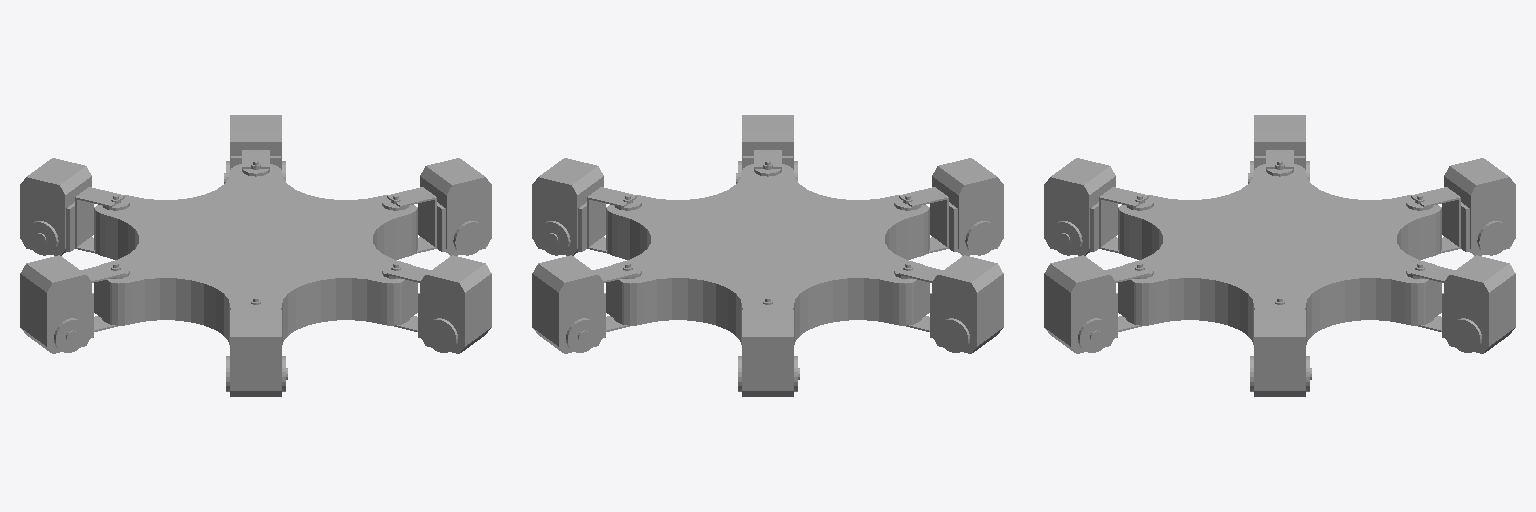
The robot description file, URDF, robot "hexapod_simplified":
<?xml version='1.0' encoding='utf-8'?>
<robot name="hexapod_simplified">

  <!-- COLOURS -->
  <material name="body">
    <color rgba="0.7 0.7 0.7 1" />
  </material>
  <material name="coxa">
    <color rgba="0.7 0.7 0.7 1" />
  </material>
  <material name="femur">
    <color rgba="0.7 0.7 0.7 1" />
  </material>
  <material name="tibia">
    <color rgba="0.7 0.7 0.7 1" />
  </material>

  <!-- BASE LINK -->
  <link name="base_link">
    <inertial>
      <origin rpy="0 0 0" xyz="0 0 -6.800E-4" />
      <mass value="1.320" />
      <inertia ixx="5.25450858E-3" ixy="0" ixz="-1.0E-11" iyy="5.25450858E-3" iyz="-1.3E-10" izz="1.014754381E-2" />
    </inertial>
    <visual>
      <origin rpy="0 0 0" xyz="0 0 0" />
      <geometry>
        <mesh filename="package://urdf/meshes/simplified/base_mesh.STL" />
      </geometry>
      <material name="body" />
    </visual>
    <collision>
      <origin rpy="0 0 0" xyz="0 0 0" />
      <geometry>
        <mesh filename="package://urdf/meshes/simplified/base_mesh.STL" />
      </geometry>
    </collision>
  </link>

  <link name="link_1_1">
    <inertial>
      <origin rpy="0 0 0" xyz="4.992E-2 -1.400E-4 1.457E-2" />
      <mass value="0.14645" />
      <inertia ixx="6.022825E-5" ixy="-6.480E-8" ixz="9.3057E-7" iyy="6.045029E-5" iyz="-3.6292E-7" izz="4.572503E-5" />
    </inertial>
    <visual>
      <origin rpy="0 0 0" xyz="0 0 0" />
      <geometry>
        <mesh filename="package://urdf/meshes/simplified/coxa_mesh.STL" />
      </geometry>
      <material name="coxa" />
    </visual>
    <collision>
      <origin rpy="0 0 0" xyz="0 0 0" />
      <geometry>
        <mesh filename="package://urdf/meshes/simplified/coxa_mesh.STL" />
      </geometry>
    </collision>
  </link>

  <joint name="joint_1_1" type="revolute">
    <origin rpy="0 0 0" xyz="0.12529 0 -0.014" />
    <parent link="base_link" />
    <child link="link_1_1" />
    <axis xyz="0 0 1" />
    <limit effort="3.464" lower="-1.745" upper="1.745" velocity="7.686" />
  </joint>

  <link name="link_1_2">
    <inertial>
      <origin rpy="0 0 0" xyz="5.478E-2 -3.960E-3 0" />
      <mass value="0.05752" />
      <inertia ixx="3.892883E-5" ixy="1.70637E-6" ixz="0" iyy="1.2476240E-4" iyz="0" izz="9.600355E-5" />
    </inertial>
    <visual>
      <origin rpy="0 0 0" xyz="0 0 0" />
      <geometry>
        <mesh filename="package://urdf/meshes/simplified/femur_mesh.STL" />
      </geometry>
      <material name="femur" />
    </visual>
    <collision>
      <origin rpy="0 0 0" xyz="0 0 0" />
      <geometry>
        <mesh filename="package://urdf/meshes/simplified/femur_mesh.STL" />
      </geometry>
    </collision>
  </link>

  <joint name="joint_1_2" type="revolute">
    <origin rpy="1.5707963267949 0 0" xyz="0.05317 0 0" />
    <parent link="link_1_1" />
    <child link="link_1_2" />
    <axis xyz="0 0 1" />
    <limit effort="5.194" lower="-2.618" upper="2.269" velocity="5.289" />
  </joint>

  <link name="link_1_3">
    <inertial>
      <origin rpy="0 0 0" xyz="3.309E-2 7.960E-3 -2.000E-05" />
      <mass value="0.15389" />
      <inertia ixx="3.190588E-5" ixy="1.070870E-5" ixz="-1.0337E-7" iyy="1.8900301E-4" iyz="4.968E-8" izz="1.9268424E-4" />
    </inertial>
    <visual>
      <origin rpy="0 0 0" xyz="0 0 0" />
      <geometry>
        <mesh filename="package://urdf/meshes/simplified/tibia_mesh.STL" />
      </geometry>
      <material name="tibia" />
    </visual>
    <collision>
      <origin rpy="0 0 0" xyz="0 0 0" />
      <geometry>
        <mesh filename="package://urdf/meshes/simplified/tibia_mesh.STL" />
      </geometry>
    </collision>
  </link>

  <joint name="joint_1_3" type="revolute">
    <origin rpy="0 0 0" xyz="0.10188 0 0" />
    <parent link="link_1_2" />
    <child link="link_1_3" />
    <axis xyz="0 0 1" />
    <limit effort="3.464" lower="-2.967" upper="2.269" velocity="7.686" />
  </joint>

  <link name="link_2_1">
    <inertial>
      <origin rpy="0 0 0" xyz="4.992E-2 -1.400E-4 1.457E-2" />
      <mass value="0.14645" />
      <inertia ixx="6.022825E-5" ixy="-6.480E-8" ixz="9.3057E-7" iyy="6.045029E-5" iyz="-3.6292E-7" izz="4.572503E-5" />
    </inertial>
    <visual>
      <origin rpy="0 0 0" xyz="0 0 0" />
      <geometry>
        <mesh filename="package://urdf/meshes/simplified/coxa_mesh.STL" />
      </geometry>
      <material name="coxa" />
    </visual>
    <collision>
      <origin rpy="0 0 0" xyz="0 0 0" />
      <geometry>
        <mesh filename="package://urdf/meshes/simplified/coxa_mesh.STL" />
      </geometry>
    </collision>
  </link>

  <joint name="joint_2_1" type="revolute">
    <origin rpy="0 0 1.047197551" xyz="0.062645 0.1085043228 -0.014" />
    <parent link="base_link" />
    <child link="link_2_1" />
    <axis xyz="0 0 1" />
    <limit effort="3.464" lower="-1.745" upper="1.745" velocity="7.686" />
  </joint>

  <link name="link_2_2">
    <inertial>
      <origin rpy="0 0 0" xyz="5.478E-2 -3.960E-3 0" />
      <mass value="0.05752" />
      <inertia ixx="3.892883E-5" ixy="1.70637E-6" ixz="0" iyy="1.2476240E-4" iyz="0" izz="9.600355E-5" />
    </inertial>
    <visual>
      <origin rpy="0 0 0" xyz="0 0 0" />
      <geometry>
        <mesh filename="package://urdf/meshes/simplified/femur_mesh.STL" />
      </geometry>
      <material name="femur" />
    </visual>
    <collision>
      <origin rpy="0 0 0" xyz="0 0 0" />
      <geometry>
        <mesh filename="package://urdf/meshes/simplified/femur_mesh.STL" />
      </geometry>
    </collision>
  </link>

  <joint name="joint_2_2" type="revolute">
    <origin rpy="1.5707963267949 0 0" xyz="0.05317 0 0" />
    <parent link="link_2_1" />
    <child link="link_2_2" />
    <axis xyz="0 0 1" />
    <limit effort="5.194" lower="-2.618" upper="2.269" velocity="5.289" />
  </joint>

  <link name="link_2_3">
    <inertial>
      <origin rpy="0 0 0" xyz="3.309E-2 7.960E-3 -2.000E-05" />
      <mass value="0.15389" />
      <inertia ixx="3.190588E-5" ixy="1.070870E-5" ixz="-1.0337E-7" iyy="1.8900301E-4" iyz="4.968E-8" izz="1.9268424E-4" />
    </inertial>
    <visual>
      <origin rpy="0 0 0" xyz="0 0 0" />
      <geometry>
        <mesh filename="package://urdf/meshes/simplified/tibia_mesh.STL" />
      </geometry>
      <material name="tibia" />
    </visual>
    <collision>
      <origin rpy="0 0 0" xyz="0 0 0" />
      <geometry>
        <mesh filename="package://urdf/meshes/simplified/tibia_mesh.STL" />
      </geometry>
    </collision>
  </link>

  <joint name="joint_2_3" type="revolute">
    <origin rpy="0 0 0" xyz="0.10188 0 0" />
    <parent link="link_2_2" />
    <child link="link_2_3" />
    <axis xyz="0 0 1" />
    <limit effort="3.464" lower="-2.967" upper="2.269" velocity="7.686" />
  </joint>

  <link name="link_3_1">
    <inertial>
      <origin rpy="0 0 0" xyz="4.992E-2 -1.400E-4 1.457E-2" />
      <mass value="0.14645" />
      <inertia ixx="6.022825E-5" ixy="-6.480E-8" ixz="9.3057E-7" iyy="6.045029E-5" iyz="-3.6292E-7" izz="4.572503E-5" />
    </inertial>
    <visual>
      <origin rpy="0 0 0" xyz="0 0 0" />
      <geometry>
        <mesh filename="package://urdf/meshes/simplified/coxa_mesh.STL" />
      </geometry>
      <material name="coxa" />
    </visual>
    <collision>
      <origin rpy="0 0 0" xyz="0 0 0" />
      <geometry>
        <mesh filename="package://urdf/meshes/simplified/coxa_mesh.STL" />
      </geometry>
    </collision>
  </link>

  <joint name="joint_3_1" type="revolute">
    <origin rpy="0 0 2.094395102" xyz="-0.062645 0.1085043228 -0.014" />
    <parent link="base_link" />
    <child link="link_3_1" />
    <axis xyz="0 0 1" />
    <limit effort="3.464" lower="-1.745" upper="1.745" velocity="7.686" />
  </joint>

  <link name="link_3_2">
    <inertial>
      <origin rpy="0 0 0" xyz="5.478E-2 -3.960E-3 0" />
      <mass value="0.05752" />
      <inertia ixx="3.892883E-5" ixy="1.70637E-6" ixz="0" iyy="1.2476240E-4" iyz="0" izz="9.600355E-5" />
    </inertial>
    <visual>
      <origin rpy="0 0 0" xyz="0 0 0" />
      <geometry>
        <mesh filename="package://urdf/meshes/simplified/femur_mesh.STL" />
      </geometry>
      <material name="femur" />
    </visual>
    <collision>
      <origin rpy="0 0 0" xyz="0 0 0" />
      <geometry>
        <mesh filename="package://urdf/meshes/simplified/femur_mesh.STL" />
      </geometry>
    </collision>
  </link>

  <joint name="joint_3_2" type="revolute">
    <origin rpy="1.5707963267949 0 0" xyz="0.05317 0 0" />
    <parent link="link_3_1" />
    <child link="link_3_2" />
    <axis xyz="0 0 1" />
    <limit effort="5.194" lower="-2.618" upper="2.269" velocity="5.289" />
  </joint>

  <link name="link_3_3">
    <inertial>
      <origin rpy="0 0 0" xyz="3.309E-2 7.960E-3 -2.000E-05" />
      <mass value="0.15389" />
      <inertia ixx="3.190588E-5" ixy="1.070870E-5" ixz="-1.0337E-7" iyy="1.8900301E-4" iyz="4.968E-8" izz="1.9268424E-4" />
    </inertial>
    <visual>
      <origin rpy="0 0 0" xyz="0 0 0" />
      <geometry>
        <mesh filename="package://urdf/meshes/simplified/tibia_mesh.STL" />
      </geometry>
      <material name="tibia" />
    </visual>
    <collision>
      <origin rpy="0 0 0" xyz="0 0 0" />
      <geometry>
        <mesh filename="package://urdf/meshes/simplified/tibia_mesh.STL" />
      </geometry>
    </collision>
  </link>

  <joint name="joint_3_3" type="revolute">
    <origin rpy="0 0 0" xyz="0.10188 0 0" />
    <parent link="link_3_2" />
    <child link="link_3_3" />
    <axis xyz="0 0 1" />
    <limit effort="3.464" lower="-2.967" upper="2.269" velocity="7.686" />
  </joint>

  <link name="link_4_1">
    <inertial>
      <origin rpy="0 0 0" xyz="4.992E-2 -1.400E-4 1.457E-2" />
      <mass value="0.14645" />
      <inertia ixx="6.022825E-5" ixy="-6.480E-8" ixz="9.3057E-7" iyy="6.045029E-5" iyz="-3.6292E-7" izz="4.572503E-5" />
    </inertial>
    <visual>
      <origin rpy="0 0 0" xyz="0 0 0" />
      <geometry>
        <mesh filename="package://urdf/meshes/simplified/coxa_mesh.STL" />
      </geometry>
      <material name="coxa" />
    </visual>
    <collision>
      <origin rpy="0 0 0" xyz="0 0 0" />
      <geometry>
        <mesh filename="package://urdf/meshes/simplified/coxa_mesh.STL" />
      </geometry>
    </collision>
  </link>

  <joint name="joint_4_1" type="revolute">
    <origin rpy="0 0 3.141592654" xyz="-0.12529 0 -0.014" />
    <parent link="base_link" />
    <child link="link_4_1" />
    <axis xyz="0 0 1" />
    <limit effort="3.464" lower="-1.745" upper="1.745" velocity="7.686" />
  </joint>

  <link name="link_4_2">
    <inertial>
      <origin rpy="0 0 0" xyz="5.478E-2 -3.960E-3 0" />
      <mass value="0.05752" />
      <inertia ixx="3.892883E-5" ixy="1.70637E-6" ixz="0" iyy="1.2476240E-4" iyz="0" izz="9.600355E-5" />
    </inertial>
    <visual>
      <origin rpy="0 0 0" xyz="0 0 0" />
      <geometry>
        <mesh filename="package://urdf/meshes/simplified/femur_mesh.STL" />
      </geometry>
      <material name="femur" />
    </visual>
    <collision>
      <origin rpy="0 0 0" xyz="0 0 0" />
      <geometry>
        <mesh filename="package://urdf/meshes/simplified/femur_mesh.STL" />
      </geometry>
    </collision>
  </link>

  <joint name="joint_4_2" type="revolute">
    <origin rpy="1.5707963267949 0 0" xyz="0.05317 0 0" />
    <parent link="link_4_1" />
    <child link="link_4_2" />
    <axis xyz="0 0 1" />
    <limit effort="5.194" lower="-2.618" upper="2.269" velocity="5.289" />
  </joint>

  <link name="link_4_3">
    <inertial>
      <origin rpy="0 0 0" xyz="3.309E-2 7.960E-3 -2.000E-05" />
      <mass value="0.15389" />
      <inertia ixx="3.190588E-5" ixy="1.070870E-5" ixz="-1.0337E-7" iyy="1.8900301E-4" iyz="4.968E-8" izz="1.9268424E-4" />
    </inertial>
    <visual>
      <origin rpy="0 0 0" xyz="0 0 0" />
      <geometry>
        <mesh filename="package://urdf/meshes/simplified/tibia_mesh.STL" />
      </geometry>
      <material name="tibia" />
    </visual>
    <collision>
      <origin rpy="0 0 0" xyz="0 0 0" />
      <geometry>
        <mesh filename="package://urdf/meshes/simplified/tibia_mesh.STL" />
      </geometry>
    </collision>
  </link>

  <joint name="joint_4_3" type="revolute">
    <origin rpy="0 0 0" xyz="0.10188 0 0" />
    <parent link="link_4_2" />
    <child link="link_4_3" />
    <axis xyz="0 0 1" />
    <limit effort="3.464" lower="-2.967" upper="2.269" velocity="7.686" />
  </joint>

  <link name="link_5_1">
    <inertial>
      <origin rpy="0 0 0" xyz="4.992E-2 -1.400E-4 1.457E-2" />
      <mass value="0.14645" />
      <inertia ixx="6.022825E-5" ixy="-6.480E-8" ixz="9.3057E-7" iyy="6.045029E-5" iyz="-3.6292E-7" izz="4.572503E-5" />
    </inertial>
    <visual>
      <origin rpy="0 0 0" xyz="0 0 0" />
      <geometry>
        <mesh filename="package://urdf/meshes/simplified/coxa_mesh.STL" />
      </geometry>
      <material name="coxa" />
    </visual>
    <collision>
      <origin rpy="0 0 0" xyz="0 0 0" />
      <geometry>
        <mesh filename="package://urdf/meshes/simplified/coxa_mesh.STL" />
      </geometry>
    </collision>
  </link>

  <joint name="joint_5_1" type="revolute">
    <origin rpy="0 0 -2.094395102" xyz="-0.062645 -0.1085043228 -0.014" />
    <parent link="base_link" />
    <child link="link_5_1" />
    <axis xyz="0 0 1" />
    <limit effort="3.464" lower="-1.745" upper="1.745" velocity="7.686" />
  </joint>

  <link name="link_5_2">
    <inertial>
      <origin rpy="0 0 0" xyz="5.478E-2 -3.960E-3 0" />
      <mass value="0.05752" />
      <inertia ixx="3.892883E-5" ixy="1.70637E-6" ixz="0" iyy="1.2476240E-4" iyz="0" izz="9.600355E-5" />
    </inertial>
    <visual>
      <origin rpy="0 0 0" xyz="0 0 0" />
      <geometry>
        <mesh filename="package://urdf/meshes/simplified/femur_mesh.STL" />
      </geometry>
      <material name="femur" />
    </visual>
    <collision>
      <origin rpy="0 0 0" xyz="0 0 0" />
      <geometry>
        <mesh filename="package://urdf/meshes/simplified/femur_mesh.STL" />
      </geometry>
    </collision>
  </link>

  <joint name="joint_5_2" type="revolute">
    <origin rpy="1.5707963267949 0 0" xyz="0.05317 0 0" />
    <parent link="link_5_1" />
    <child link="link_5_2" />
    <axis xyz="0 0 1" />
    <limit effort="5.194" lower="-2.618" upper="2.269" velocity="5.289" />
  </joint>

  <link name="link_5_3">
    <inertial>
      <origin rpy="0 0 0" xyz="3.309E-2 7.960E-3 -2.000E-05" />
      <mass value="0.15389" />
      <inertia ixx="3.190588E-5" ixy="1.070870E-5" ixz="-1.0337E-7" iyy="1.8900301E-4" iyz="4.968E-8" izz="1.9268424E-4" />
    </inertial>
    <visual>
      <origin rpy="0 0 0" xyz="0 0 0" />
      <geometry>
        <mesh filename="package://urdf/meshes/simplified/tibia_mesh.STL" />
      </geometry>
      <material name="tibia" />
    </visual>
    <collision>
      <origin rpy="0 0 0" xyz="0 0 0" />
      <geometry>
        <mesh filename="package://urdf/meshes/simplified/tibia_mesh.STL" />
      </geometry>
    </collision>
  </link>

  <joint name="joint_5_3" type="revolute">
    <origin rpy="0 0 0" xyz="0.10188 0 0" />
    <parent link="link_5_2" />
    <child link="link_5_3" />
    <axis xyz="0 0 1" />
    <limit effort="3.464" lower="-2.967" upper="2.269" velocity="7.686" />
  </joint>

  <link name="link_6_1">
    <inertial>
      <origin rpy="0 0 0" xyz="4.992E-2 -1.400E-4 1.457E-2" />
      <mass value="0.14645" />
      <inertia ixx="6.022825E-5" ixy="-6.480E-8" ixz="9.3057E-7" iyy="6.045029E-5" iyz="-3.6292E-7" izz="4.572503E-5" />
    </inertial>
    <visual>
      <origin rpy="0 0 0" xyz="0 0 0" />
      <geometry>
        <mesh filename="package://urdf/meshes/simplified/coxa_mesh.STL" />
      </geometry>
      <material name="coxa" />
    </visual>
    <collision>
      <origin rpy="0 0 0" xyz="0 0 0" />
      <geometry>
        <mesh filename="package://urdf/meshes/simplified/coxa_mesh.STL" />
      </geometry>
    </collision>
  </link>

  <joint name="joint_6_1" type="revolute">
    <origin rpy="0 0 -1.047197551" xyz="0.062645 -0.1085043228 -0.014" />
    <parent link="base_link" />
    <child link="link_6_1" />
    <axis xyz="0 0 1" />
    <limit effort="3.464" lower="-1.745" upper="1.745" velocity="7.686" />
  </joint>

  <link name="link_6_2">
    <inertial>
      <origin rpy="0 0 0" xyz="5.478E-2 -3.960E-3 0" />
      <mass value="0.05752" />
      <inertia ixx="3.892883E-5" ixy="1.70637E-6" ixz="0" iyy="1.2476240E-4" iyz="0" izz="9.600355E-5" />
    </inertial>
    <visual>
      <origin rpy="0 0 0" xyz="0 0 0" />
      <geometry>
        <mesh filename="package://urdf/meshes/simplified/femur_mesh.STL" />
      </geometry>
      <material name="femur" />
    </visual>
    <collision>
      <origin rpy="0 0 0" xyz="0 0 0" />
      <geometry>
        <mesh filename="package://urdf/meshes/simplified/femur_mesh.STL" />
      </geometry>
    </collision>
  </link>

  <joint name="joint_6_2" type="revolute">
    <origin rpy="1.5707963267949 0 0" xyz="0.05317 0 0" />
    <parent link="link_6_1" />
    <child link="link_6_2" />
    <axis xyz="0 0 1" />
    <limit effort="5.194" lower="-2.618" upper="2.269" velocity="5.289" />
  </joint>

  <link name="link_6_3">
    <inertial>
      <origin rpy="0 0 0" xyz="3.309E-2 7.960E-3 -2.000E-05" />
      <mass value="0.15389" />
      <inertia ixx="3.190588E-5" ixy="1.070870E-5" ixz="-1.0337E-7" iyy="1.8900301E-4" iyz="4.968E-8" izz="1.9268424E-4" />
    </inertial>
    <visual>
      <origin rpy="0 0 0" xyz="0 0 0" />
      <geometry>
        <mesh filename="package://urdf/meshes/simplified/tibia_mesh.STL" />
      </geometry>
      <material name="tibia" />
    </visual>
    <collision>
      <origin rpy="0 0 0" xyz="0 0 0" />
      <geometry>
        <mesh filename="package://urdf/meshes/simplified/tibia_mesh.STL" />
      </geometry>
    </collision>
  </link>

  <joint name="joint_6_3" type="revolute">
    <origin rpy="0 0 0" xyz="0.10188 0 0" />
    <parent link="link_6_2" />
    <child link="link_6_3" />
    <axis xyz="0 0 1" />
    <limit effort="3.464" lower="-2.967" upper="2.269" velocity="7.686" />
  </joint>

</robot>

--- What the picture shows (computed from the rendered views, not written in the file) ---
Views: 3 orthographic renders of the robot side by side, from view 1: azimuth 30°, elevation 25°; view 2: azimuth 150°, elevation 25°; view 3: azimuth 270°, elevation 25°.
Robot: hexapod_simplified — 19 links, 18 joints (18 revolute); root link base_link; default pose: all joints at 0.
Visible links, largest first — view 1: base_link, link_4_1, link_6_1, link_1_1, link_3_1, link_5_1, link_2_1; view 2: base_link, link_2_1, link_4_1, link_1_1, link_5_1, link_3_1, link_6_1; view 3: base_link, link_2_1, link_6_1, link_3_1, link_5_1, link_1_1, link_4_1.
Link boxes in pixels (bbox=[...]): base_link: bbox=[94, 160, 417, 344]; link_4_1: bbox=[20, 255, 124, 353]; link_6_1: bbox=[387, 255, 491, 353]; link_1_1: bbox=[387, 158, 491, 255]; link_3_1: bbox=[20, 158, 124, 255]; link_5_1: bbox=[226, 301, 287, 396]; link_2_1: bbox=[224, 115, 285, 183]; base_link: bbox=[606, 160, 929, 344]; link_2_1: bbox=[532, 255, 636, 353]; link_4_1: bbox=[899, 255, 1003, 353]; link_1_1: bbox=[532, 158, 636, 255]; link_5_1: bbox=[899, 158, 1003, 255]; link_3_1: bbox=[738, 301, 799, 396]; link_6_1: bbox=[736, 115, 797, 183]; base_link: bbox=[1118, 160, 1441, 344]; link_2_1: bbox=[1411, 255, 1515, 353]; link_6_1: bbox=[1044, 255, 1148, 353]; link_3_1: bbox=[1411, 158, 1515, 255]; link_5_1: bbox=[1044, 158, 1148, 255]; link_1_1: bbox=[1250, 301, 1311, 396]; link_4_1: bbox=[1248, 115, 1309, 183].
Size in the robot's own frame: 0.3971 by 0.3644 by 0.0621 metres.
Meshes: 4 distinct files referenced, 7 mesh visuals loaded (2 binary STL); not drawn: 12 (reference not matched to a file when rendering).